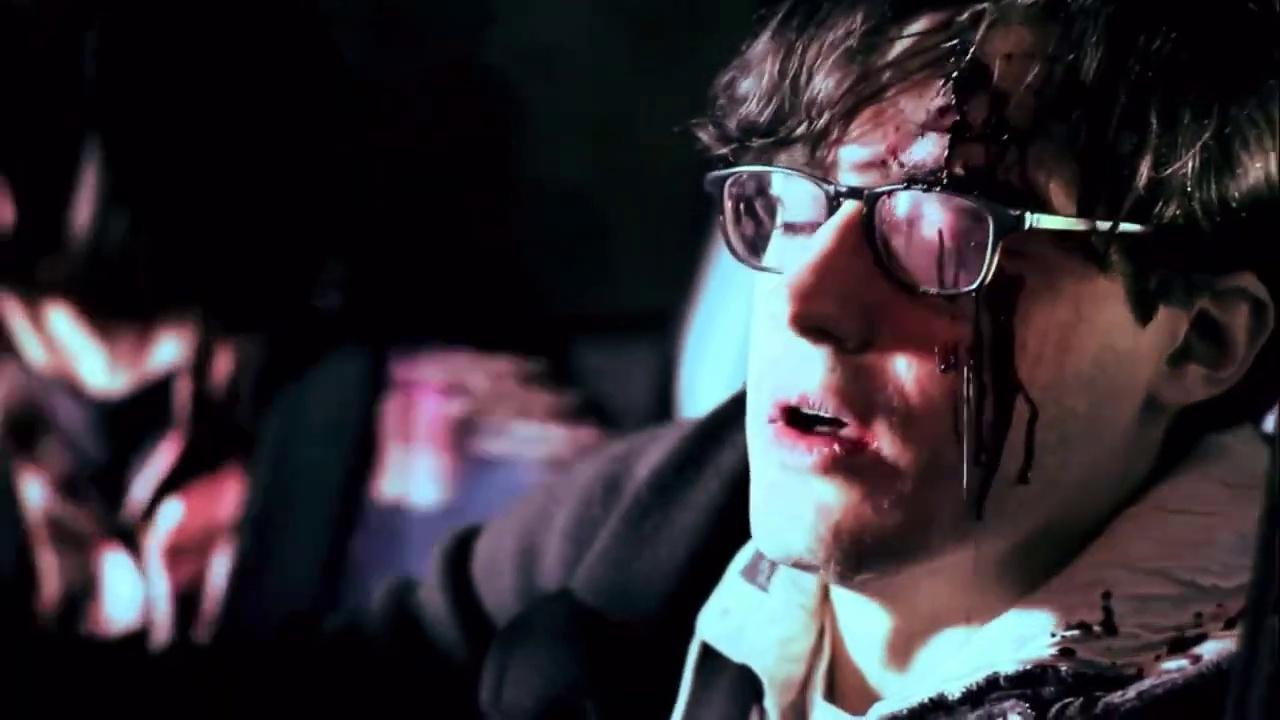Fire: (872, 3, 1054, 522), (892, 581, 1240, 720)
